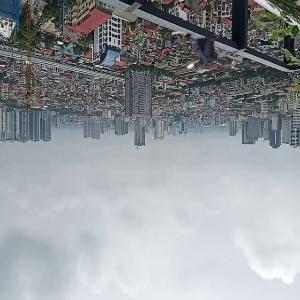drone: (169, 16, 240, 87)
